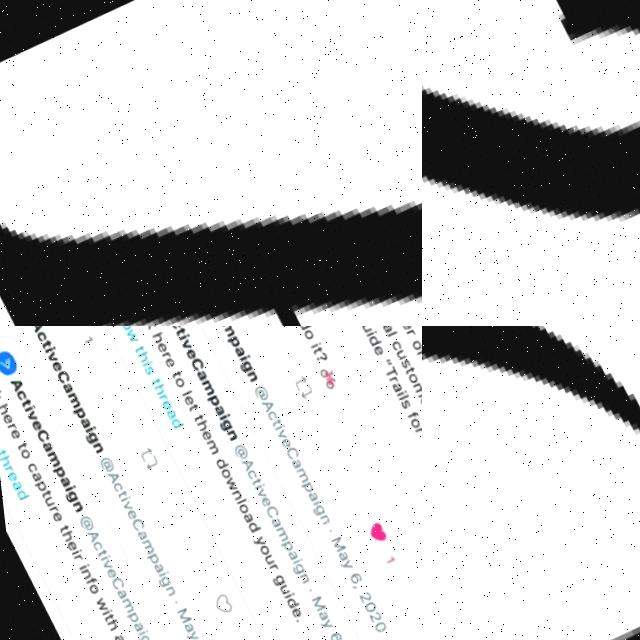2: (422, 0, 640, 326), (339, 576, 353, 587), (317, 634, 331, 640)
A: (253, 400, 270, 417), (231, 459, 249, 475), (4, 376, 20, 392), (76, 529, 93, 544), (98, 470, 114, 485), (189, 370, 203, 383), (376, 326, 389, 339), (228, 347, 240, 361), (73, 417, 85, 431), (106, 587, 118, 601), (282, 460, 294, 473), (299, 493, 311, 506), (207, 406, 219, 419), (277, 552, 289, 565), (57, 382, 69, 395), (127, 529, 139, 542), (143, 562, 155, 575), (35, 440, 47, 453), (51, 476, 63, 489), (121, 620, 133, 633), (261, 519, 273, 531), (158, 410, 170, 422), (23, 470, 35, 482), (24, 326, 41, 333), (385, 387, 396, 397), (307, 614, 318, 624), (234, 515, 245, 525), (4, 480, 15, 490), (328, 554, 338, 564), (172, 624, 182, 634), (414, 363, 422, 375), (101, 633, 113, 640)
B: (0, 199, 422, 326)
C: (422, 326, 640, 451), (50, 369, 67, 385), (255, 507, 272, 522), (121, 518, 137, 533), (100, 576, 116, 591), (185, 358, 200, 373), (29, 428, 44, 443), (277, 449, 292, 463), (10, 388, 22, 402), (386, 344, 398, 356), (31, 330, 43, 342), (19, 461, 31, 473), (105, 482, 116, 493), (83, 541, 94, 552), (261, 413, 271, 423), (239, 472, 249, 482), (165, 326, 177, 332)
D: (164, 417, 179, 431), (7, 487, 22, 501), (362, 338, 378, 351), (207, 459, 222, 472), (237, 523, 252, 536), (274, 599, 289, 612), (292, 326, 308, 334)
E: (271, 439, 286, 453), (24, 418, 38, 432), (193, 431, 206, 444), (279, 608, 291, 622), (57, 539, 69, 553), (180, 349, 192, 362), (177, 396, 189, 409), (43, 510, 55, 523), (367, 349, 379, 361), (151, 343, 163, 355), (154, 401, 166, 413), (46, 360, 58, 372), (117, 509, 129, 521), (3, 427, 15, 439), (0, 469, 10, 482), (159, 359, 170, 370), (412, 400, 422, 412), (252, 500, 263, 510), (97, 569, 107, 580), (395, 326, 407, 335), (0, 411, 7, 424)
F: (75, 576, 88, 587), (400, 414, 413, 424), (410, 352, 422, 362)
G: (210, 419, 227, 436), (55, 488, 71, 504), (76, 431, 93, 446), (260, 575, 275, 590), (280, 565, 296, 579), (233, 362, 248, 376), (146, 576, 161, 589), (303, 508, 317, 520), (124, 633, 140, 640), (348, 326, 364, 329)
H: (95, 618, 109, 631), (132, 352, 146, 364), (147, 334, 161, 345), (190, 422, 204, 433), (148, 384, 162, 395), (52, 530, 66, 541), (0, 402, 5, 414), (0, 454, 5, 465)
I: (233, 356, 247, 365), (266, 425, 280, 434), (172, 334, 186, 343), (17, 404, 31, 413), (55, 484, 69, 493), (389, 393, 402, 402), (304, 344, 317, 353), (245, 484, 258, 493), (272, 594, 285, 603), (136, 360, 149, 369), (147, 570, 160, 579), (126, 629, 139, 638), (89, 608, 102, 617), (302, 501, 316, 509), (211, 415, 225, 423), (281, 560, 295, 568), (77, 426, 91, 434), (111, 495, 123, 504), (39, 346, 52, 354), (89, 554, 102, 562), (61, 548, 74, 556), (68, 563, 81, 571), (361, 334, 372, 341), (375, 326, 386, 328)
K: (139, 326, 153, 331)
L: (227, 499, 240, 508), (381, 333, 393, 342), (174, 391, 187, 399), (391, 397, 403, 405)
M: (320, 539, 337, 557), (165, 608, 182, 626), (299, 598, 316, 615), (287, 469, 302, 488), (195, 380, 210, 399), (61, 391, 76, 410), (198, 440, 212, 458), (39, 449, 53, 467), (266, 528, 280, 545), (406, 386, 419, 402), (132, 540, 145, 556), (110, 597, 123, 613), (216, 326, 231, 339)
N: (85, 442, 98, 456), (220, 431, 232, 444), (63, 500, 75, 513), (70, 567, 82, 580), (241, 373, 253, 385), (155, 586, 166, 597), (310, 517, 321, 527), (289, 576, 300, 586), (223, 492, 234, 502)
O: (401, 375, 413, 389), (228, 504, 240, 517), (78, 583, 90, 596), (406, 344, 418, 356), (402, 422, 414, 434), (168, 378, 180, 390), (212, 469, 224, 481), (12, 447, 24, 459), (299, 333, 310, 343), (249, 547, 260, 557), (115, 326, 127, 332)
P: (43, 465, 59, 480), (200, 395, 215, 410), (221, 338, 237, 352), (65, 407, 80, 420), (292, 485, 306, 497), (136, 555, 150, 566), (115, 613, 129, 624), (27, 480, 39, 492), (271, 543, 284, 554)
R: (382, 380, 393, 389), (258, 566, 269, 575), (152, 394, 163, 403), (63, 553, 74, 562), (0, 421, 10, 430), (400, 334, 411, 342), (155, 353, 166, 361), (407, 432, 417, 440), (40, 505, 50, 513), (0, 464, 6, 473), (416, 410, 422, 418)
S: (395, 363, 406, 373), (394, 404, 405, 414), (139, 366, 149, 377)
T: (377, 370, 393, 384), (410, 439, 422, 456), (264, 421, 277, 432), (14, 397, 27, 408), (49, 523, 62, 534), (36, 339, 49, 349), (171, 328, 182, 339), (109, 490, 121, 500), (9, 440, 21, 450), (87, 548, 98, 558), (33, 488, 44, 498), (398, 370, 410, 379), (92, 613, 104, 622), (128, 346, 140, 355), (181, 404, 193, 413), (186, 415, 198, 424), (242, 480, 254, 489), (166, 371, 176, 380), (307, 350, 318, 358), (145, 379, 155, 387)
U: (390, 354, 401, 365), (254, 557, 265, 568), (268, 587, 279, 598), (36, 496, 47, 507), (356, 326, 367, 336)
V: (176, 340, 188, 353), (42, 351, 54, 364), (113, 500, 125, 513), (20, 410, 32, 422), (92, 560, 103, 571), (269, 433, 280, 443), (248, 491, 259, 501)
W: (84, 597, 98, 612), (121, 329, 134, 345), (216, 479, 229, 494), (416, 451, 422, 466)
Y: (243, 537, 258, 551), (329, 563, 343, 575), (308, 621, 322, 633), (172, 632, 187, 640)
